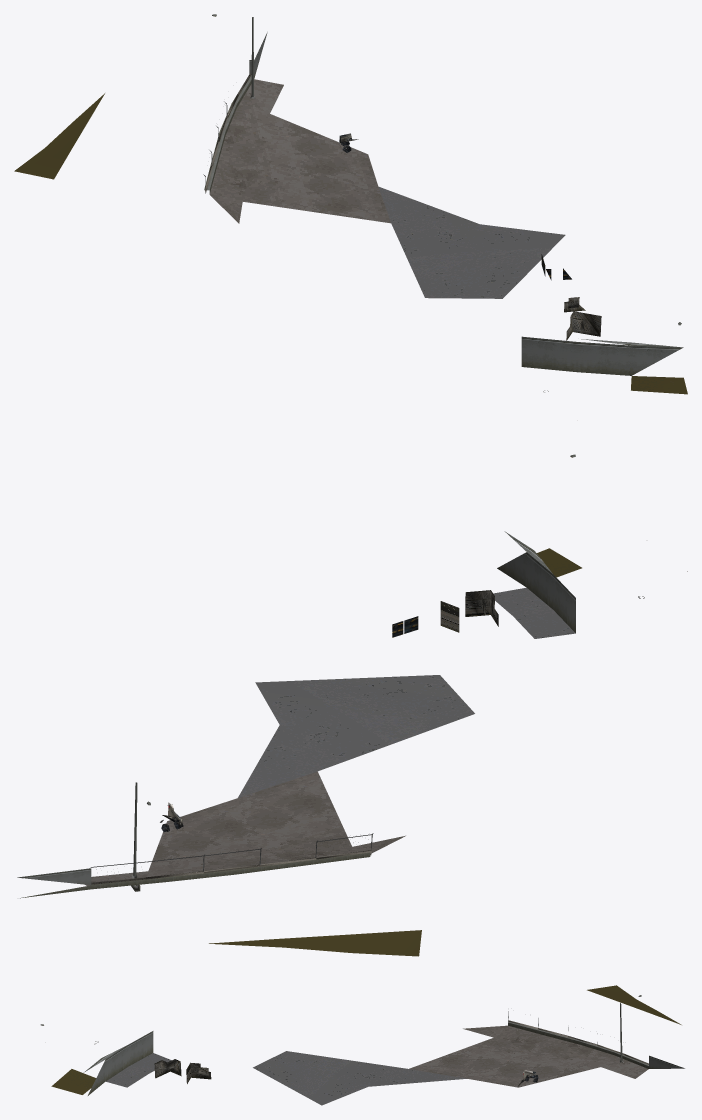
File: world_camden_8_-6.gltf
3 renders of one model, top to bottom at view 1: azimuth 30°, elevation 25°; view 2: azimuth 150°, elevation 25°; view 3: azimuth 270°, elevation 25°, orthographic. The views are drawn at different scales.
Size of the model in its own units: 61.25 by 17.08 by 143.
Materials: 16 (16 with a texture image).
